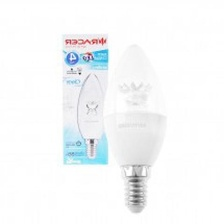carton: (58, 30, 110, 171)
light_bulb: (96, 41, 173, 219)
